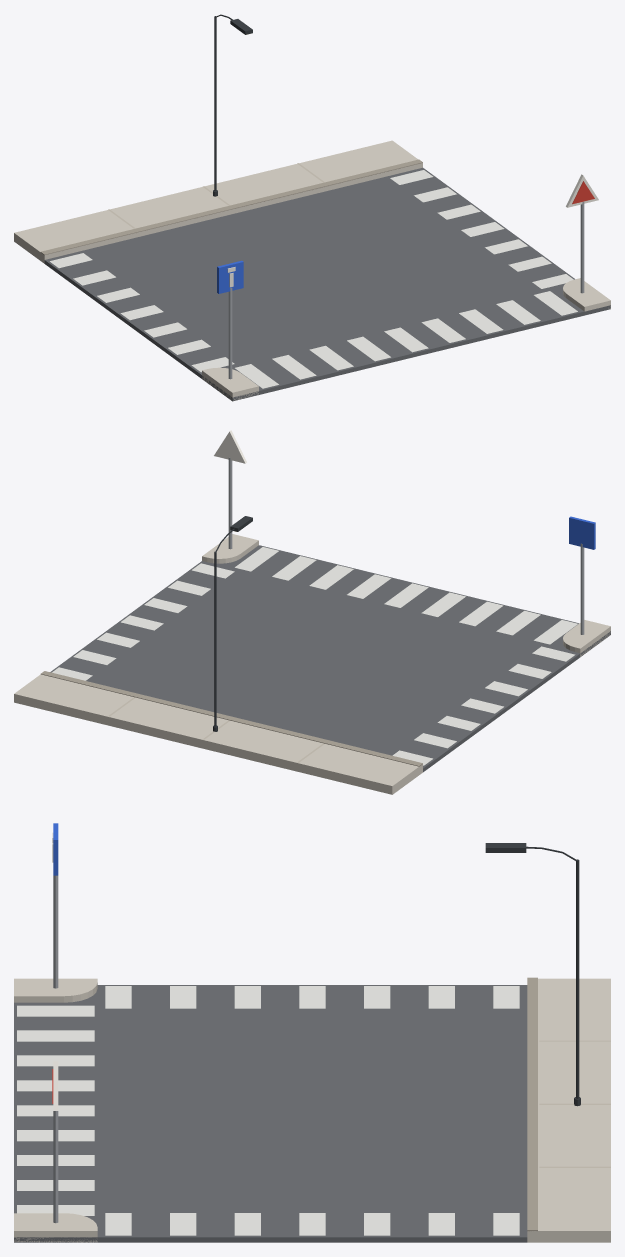
File: Yol_t_sc_Hafif.fbx
3 renders of one model, top to bottom at view 1: azimuth 30°, elevation 25°; view 2: azimuth 150°, elevation 25°; view 3: azimuth 270°, elevation 25°, orthographic. The views are drawn at different scales.
Visible parts, largest first — view 1: Yol_t_sc_Hafif; view 2: Yol_t_sc_Hafif; view 3: Yol_t_sc_Hafif.
Part boxes in pixels (left/top/right/bottom): Yol_t_sc_Hafif: left=14, top=14, right=610, bottom=401; Yol_t_sc_Hafif: left=14, top=430, right=610, bottom=794; Yol_t_sc_Hafif: left=14, top=823, right=610, bottom=1242.
Size of the model in its own units: 10.07 by 5.01 by 10.
